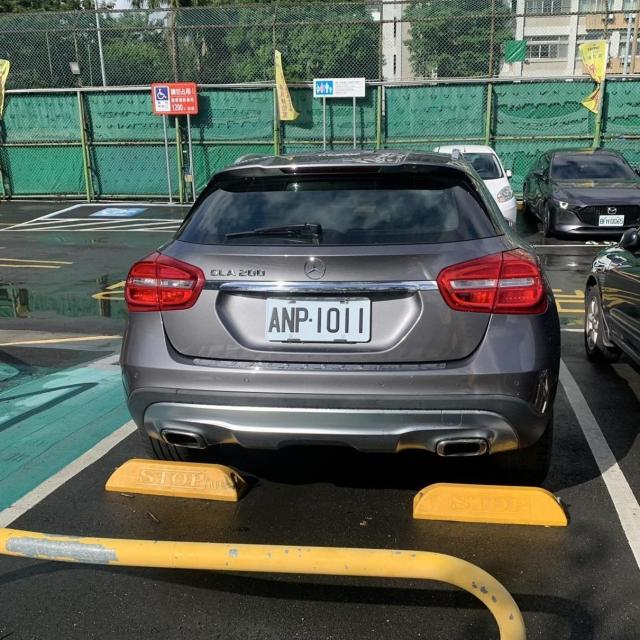W: (263, 293, 380, 346), (594, 211, 632, 231)
